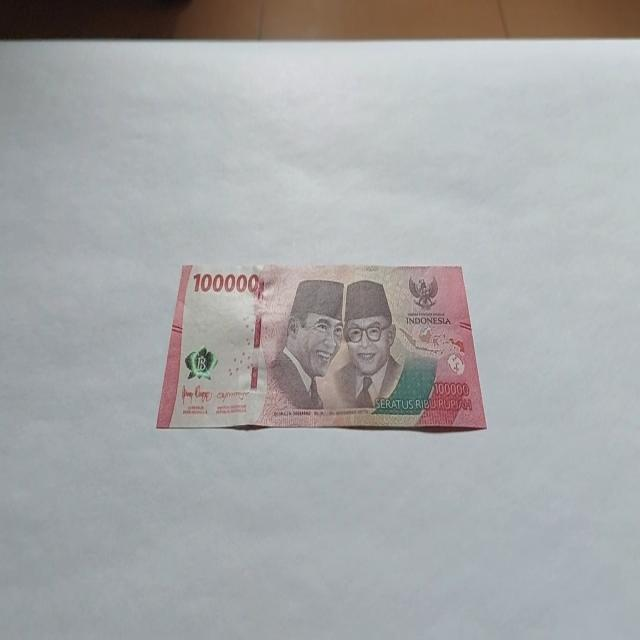seratus ribu rupiah: (155, 260, 487, 432)
